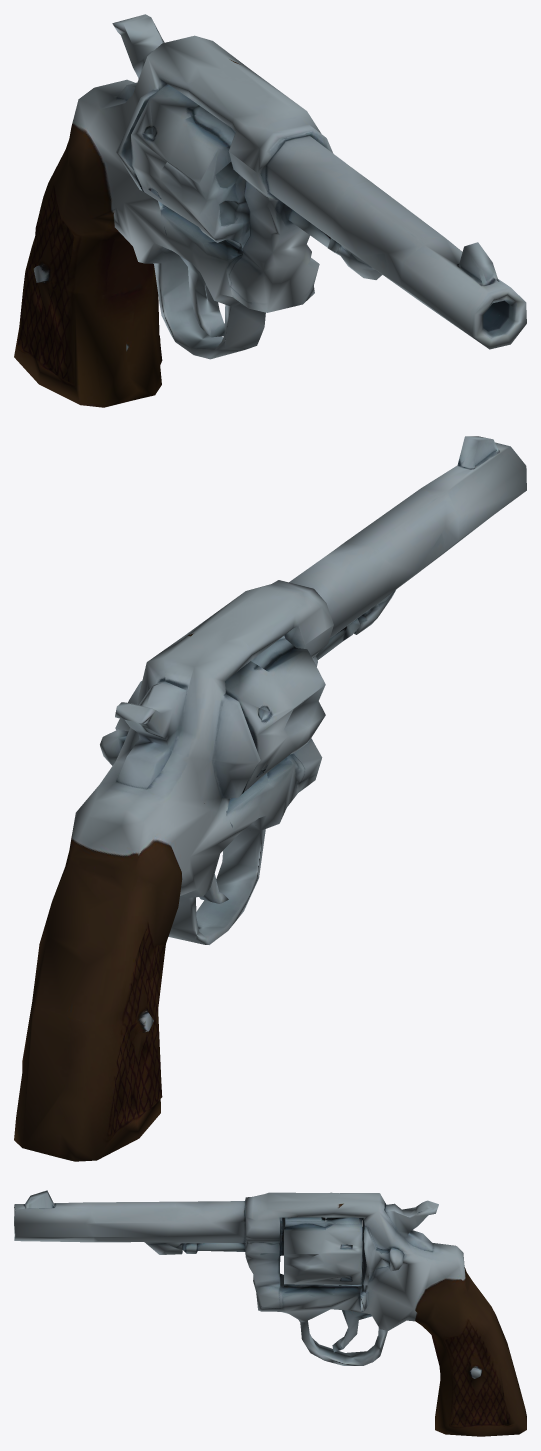
Rendered from revolver.glb.
3 renders of one model, top to bottom at view 1: azimuth 30°, elevation 25°; view 2: azimuth 150°, elevation 25°; view 3: azimuth 270°, elevation 25°, orthographic. The views are drawn at different scales.
Parts seen in each view (by area): view 1: tripo_node_7ee9bd32-a700-49e8-976c-e23a5fe8659f; view 2: tripo_node_7ee9bd32-a700-49e8-976c-e23a5fe8659f; view 3: tripo_node_7ee9bd32-a700-49e8-976c-e23a5fe8659f.
Boxes of the visible parts, x1,y1,x2,y2 form: tripo_node_7ee9bd32-a700-49e8-976c-e23a5fe8659f: [14, 14, 526, 407]; tripo_node_7ee9bd32-a700-49e8-976c-e23a5fe8659f: [14, 436, 526, 1161]; tripo_node_7ee9bd32-a700-49e8-976c-e23a5fe8659f: [14, 1190, 526, 1436].
Bounding box in the file's own units: 0.0807 × 0.2199 × 0.4413.
Materials: 1 (1 with a texture image).
